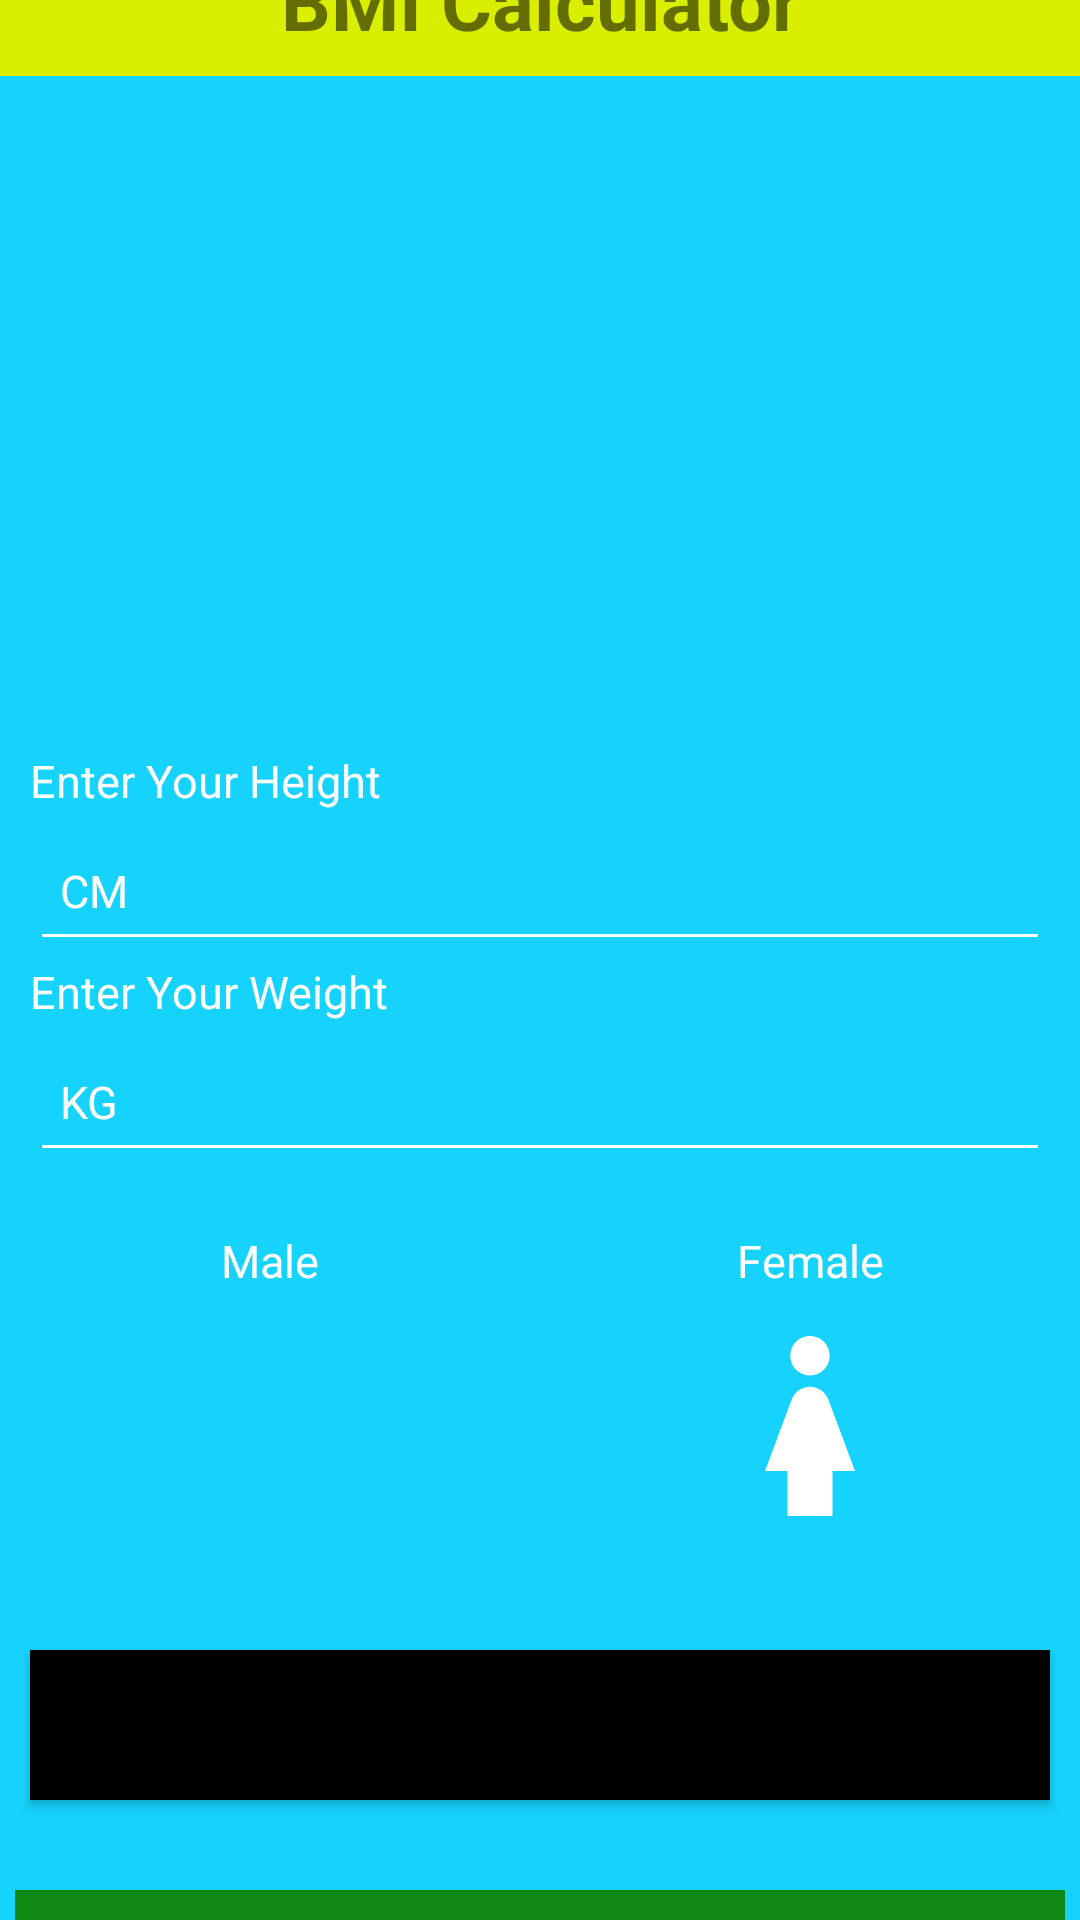

Point at icon controls on the screen. Image size 1080×1920, points as (x=x, y=y).
girl: (x=810, y=1426)
